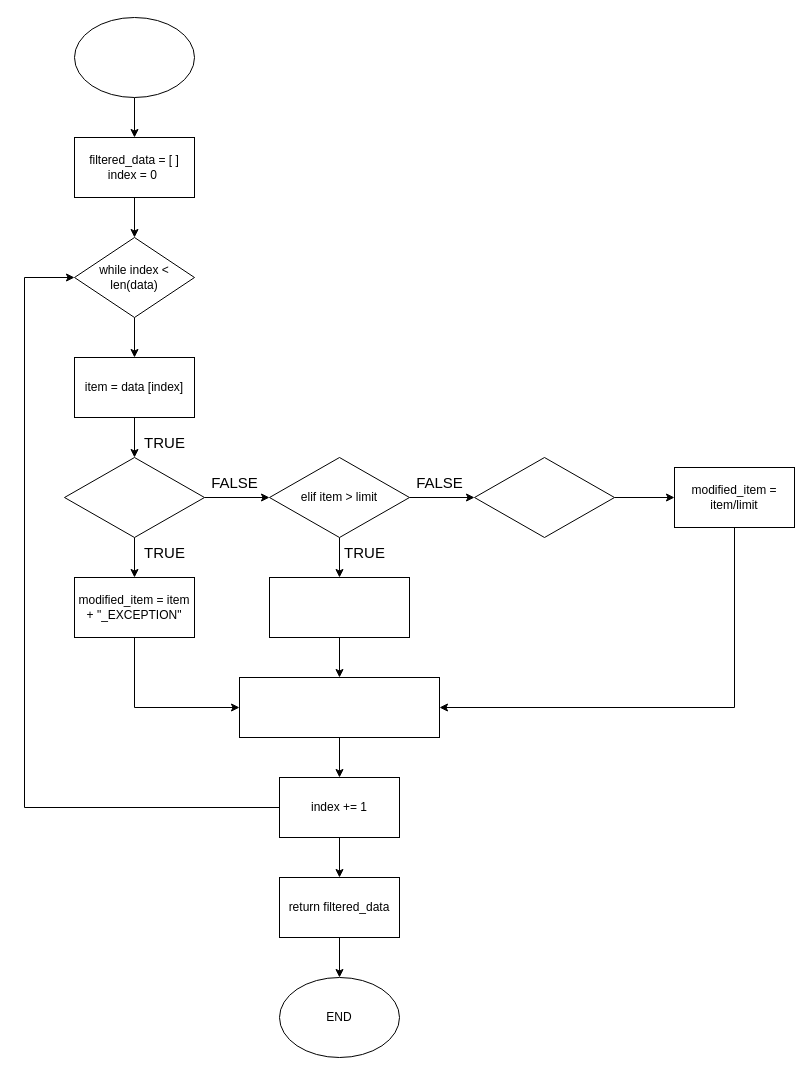
This 812x1075 diagram has some shape labels left out. The box of each missing label's shape, as (x1, y1, x2, y2) in pixels:
else: (474, 456, 614, 538)
filtered_data.append(modified_item): (238, 676, 440, 738)
if item in exceptions: (64, 456, 204, 538)
modified_item = item *2: (268, 576, 410, 638)
START: (74, 16, 194, 98)
